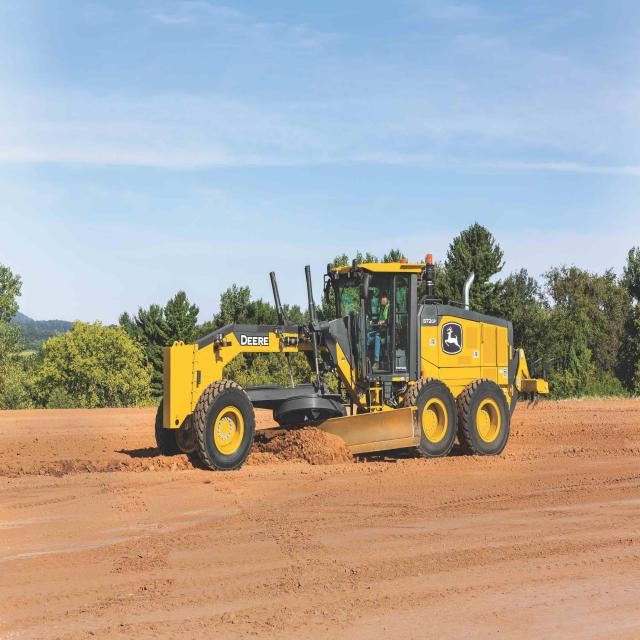Grader: (145, 250, 564, 490)
